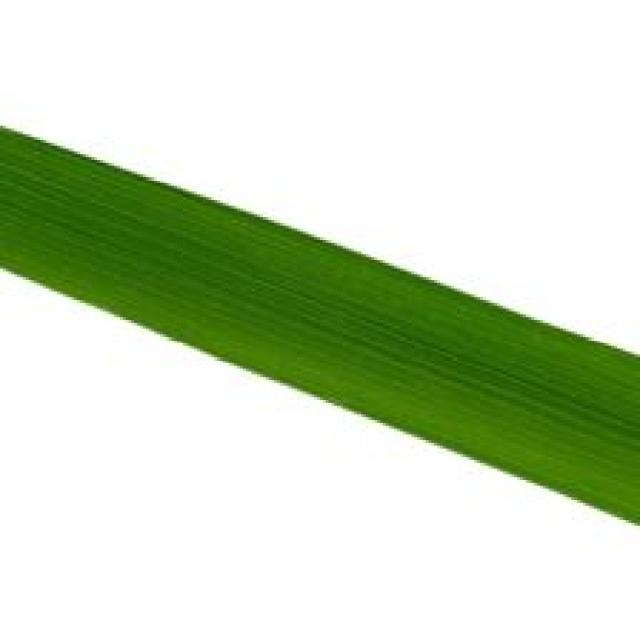Rice___Healthy_Rice_Plant: (0, 122, 637, 530)
